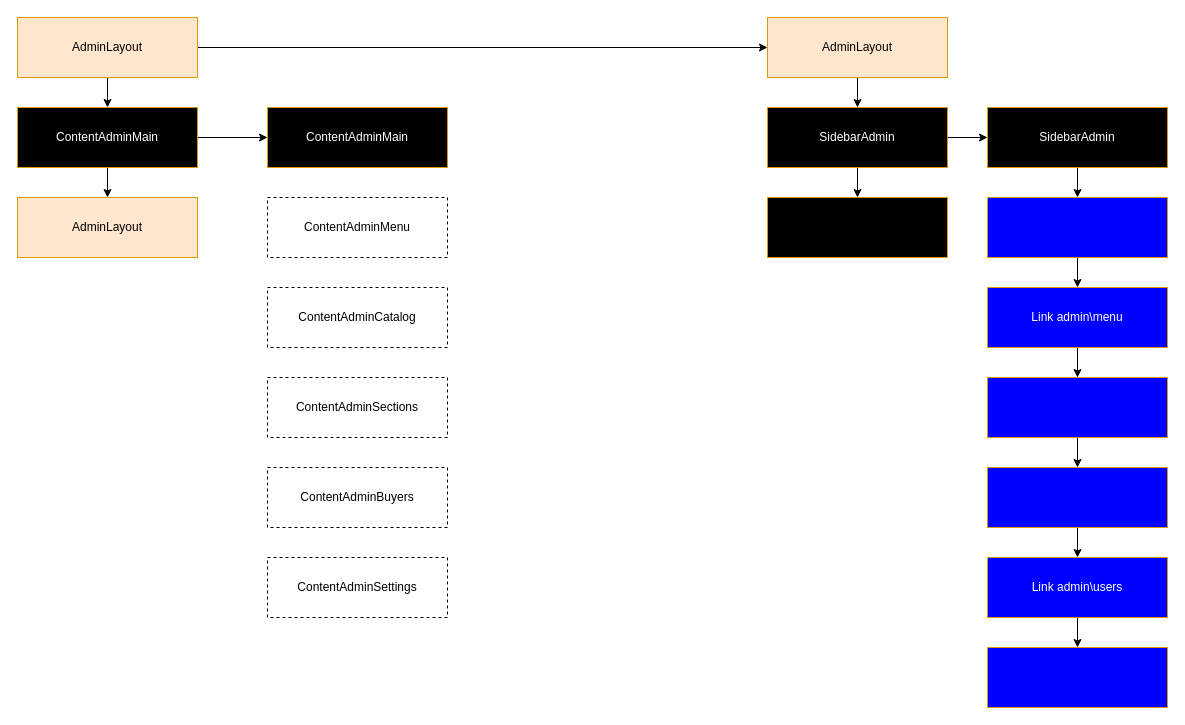
Some shapes in this 1185 by 725 pixel diagram are drawn without their labels. The centre of each missing label's shape, as x and y in pixels:
HeaderAdmin: the point at 857,227
Link admin\catalog: the point at 1077,407
Link admin\main: the point at 1077,227
Link admin\sections: the point at 1077,497
Link admin\settings: the point at 1077,677
